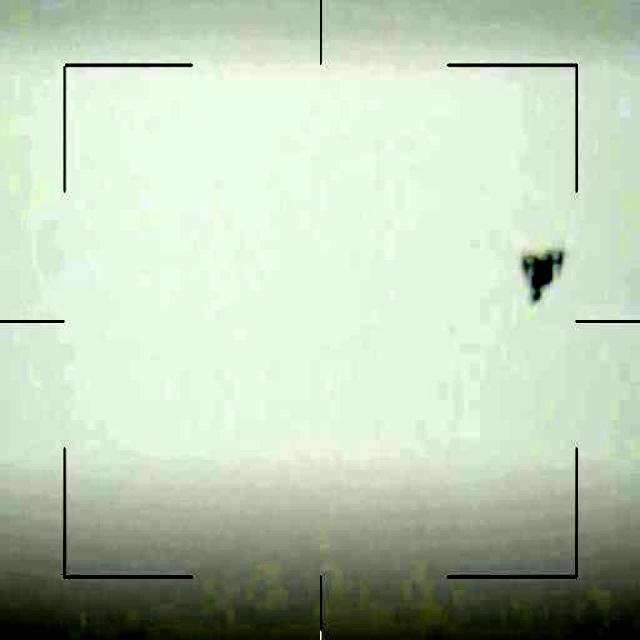bird: (516, 246, 575, 315)
